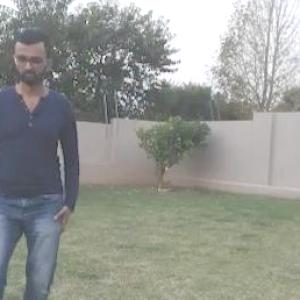follow: (0, 0, 90, 299)
